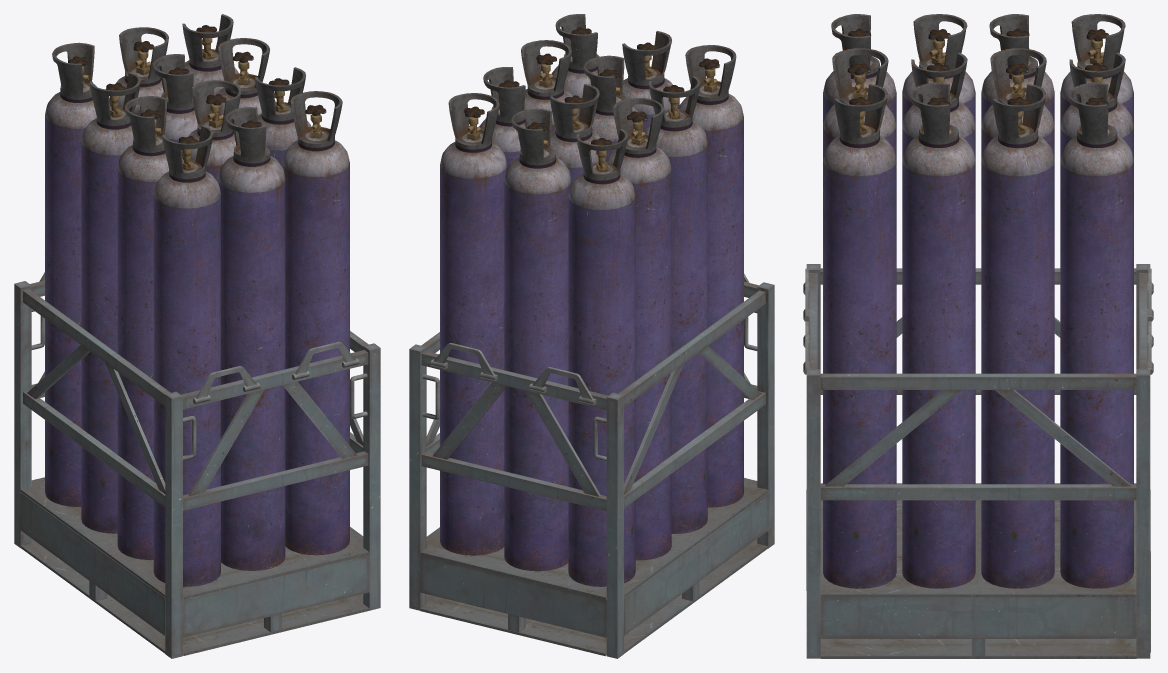
Rendered from WeldingTank_Pallet_01a_snaps011.fbx.
The picture shows the model from 3 angles, left to right: view 1: azimuth 30°, elevation 25°; view 2: azimuth 150°, elevation 25°; view 3: azimuth 270°, elevation 25°; orthographic projection. The views are drawn at different scales.
Parts seen in each view (by area): view 1: WeldingTank_Pallet_01a_snaps011_LOD0; view 2: WeldingTank_Pallet_01a_snaps011_LOD0; view 3: WeldingTank_Pallet_01a_snaps011_LOD0.
Boxes of the visible parts, <box> form: WeldingTank_Pallet_01a_snaps011_LOD0: <box>14,14,380,658</box>; WeldingTank_Pallet_01a_snaps011_LOD0: <box>409,14,774,658</box>; WeldingTank_Pallet_01a_snaps011_LOD0: <box>803,14,1153,658</box>.
Size of what is drawn, in the model's own units: 68.39 by 155 by 90.64.
